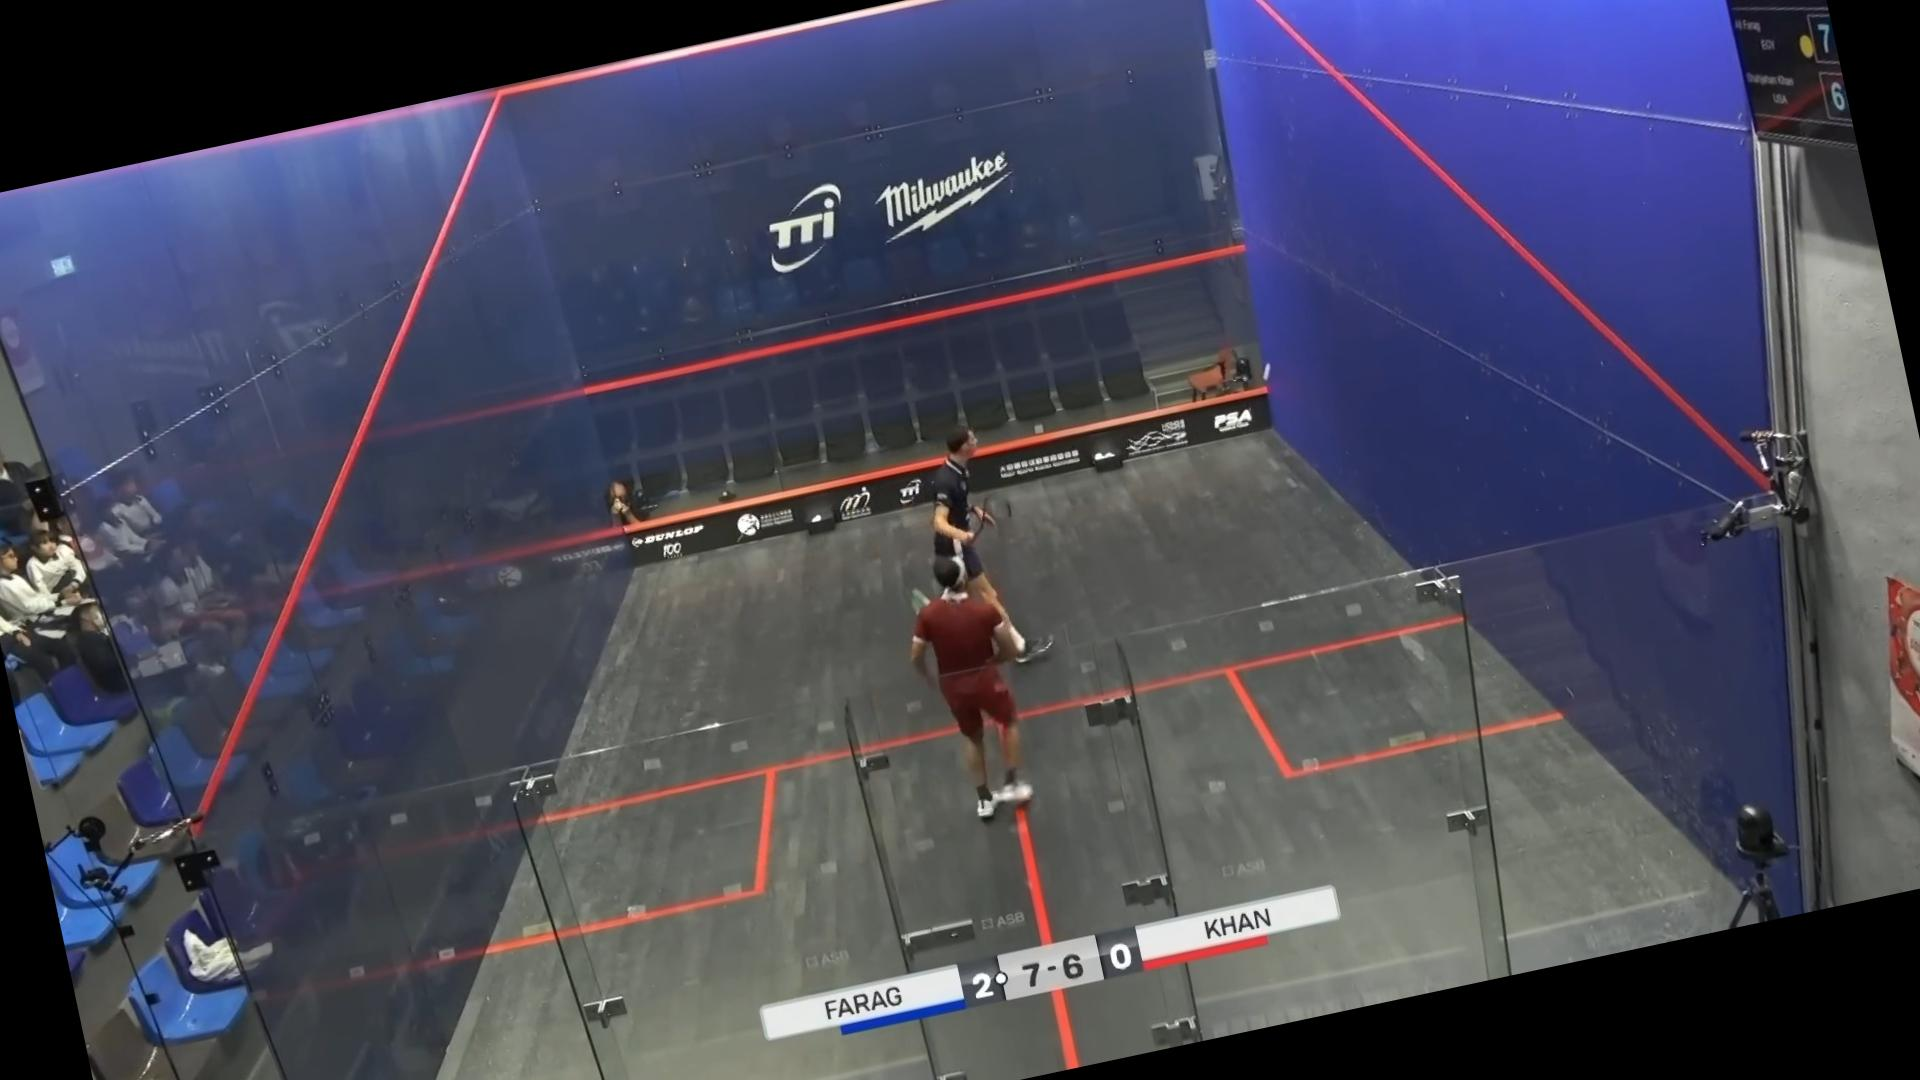Racket: (959, 487, 1023, 542)
